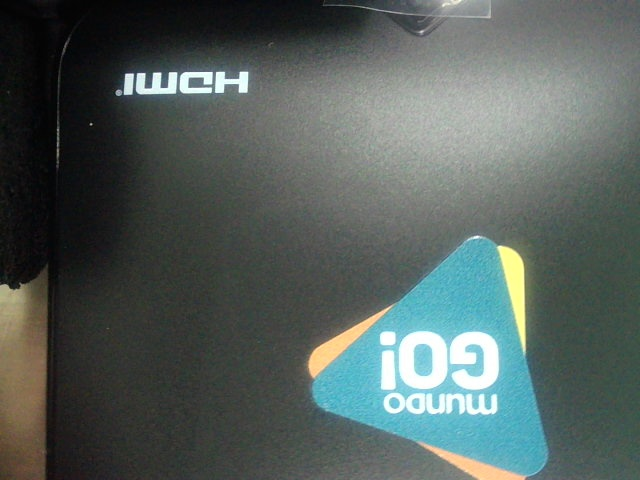AP_IPGMundoGO: (282, 231, 582, 475)
